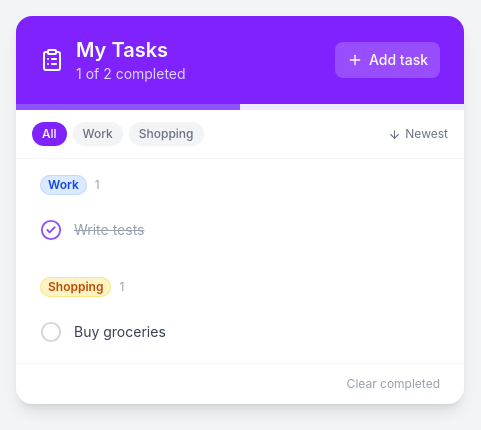
Test: TodoList › toggles a done task back to pending
The width and height of the screenshot is (481, 430).
Click the button named "Mark incomplete": (51, 230) [40,219,62,241]
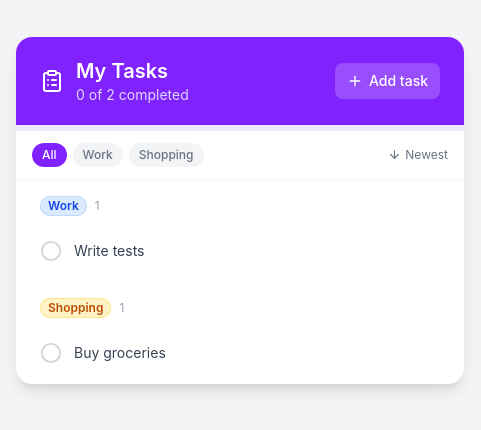
Now the text "0 of 2 completed" is shown, box [76,84,189,104]
